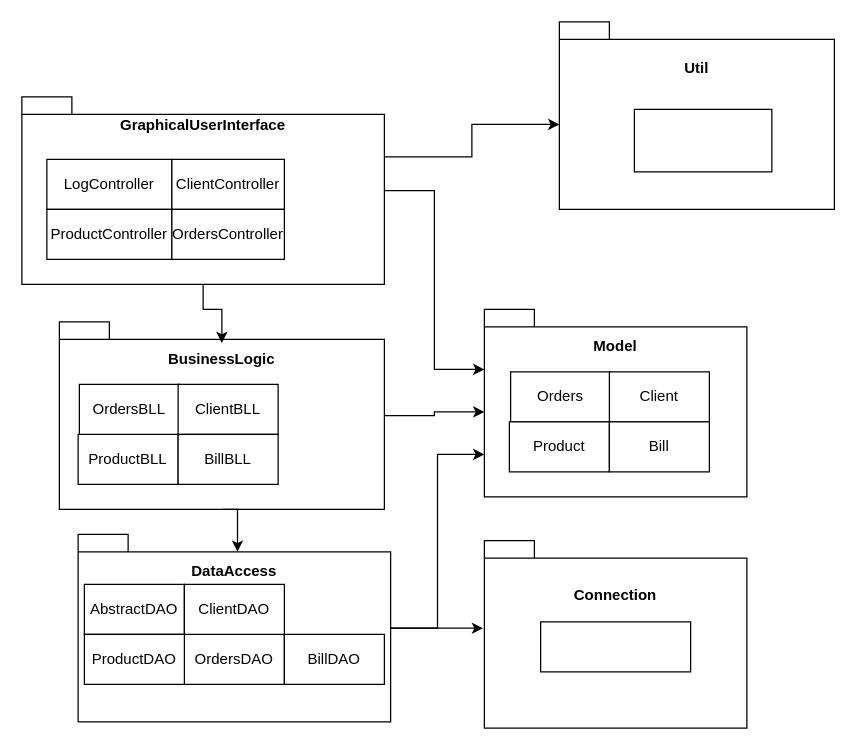
Image size: 856x750. Some labels were removed from this diagram. The centre of each missing label's shape, as x and y in pixels:
"ConnectionFactory" belongs at (x=615, y=646).
"TableVIewBuilder" belongs at (x=702, y=140).
